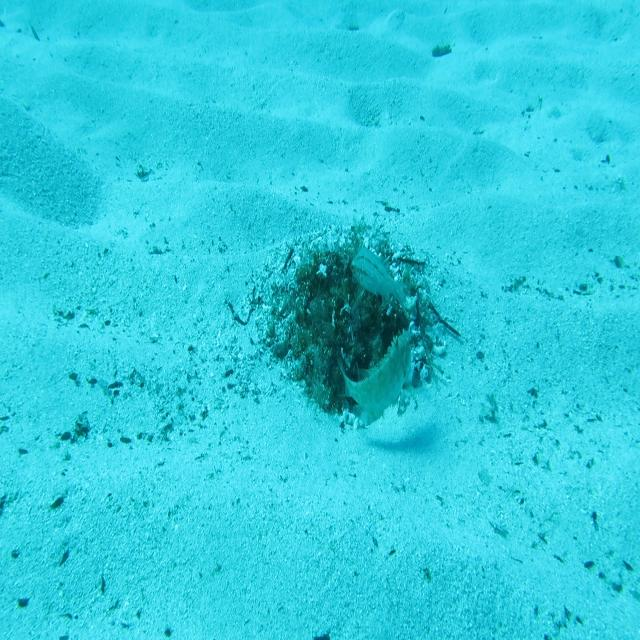BEND: (336, 326, 414, 427)
core_nest: (318, 258, 371, 319)
female: (349, 242, 411, 316)
nest: (238, 203, 458, 445)
vegetation: (428, 38, 455, 61)
